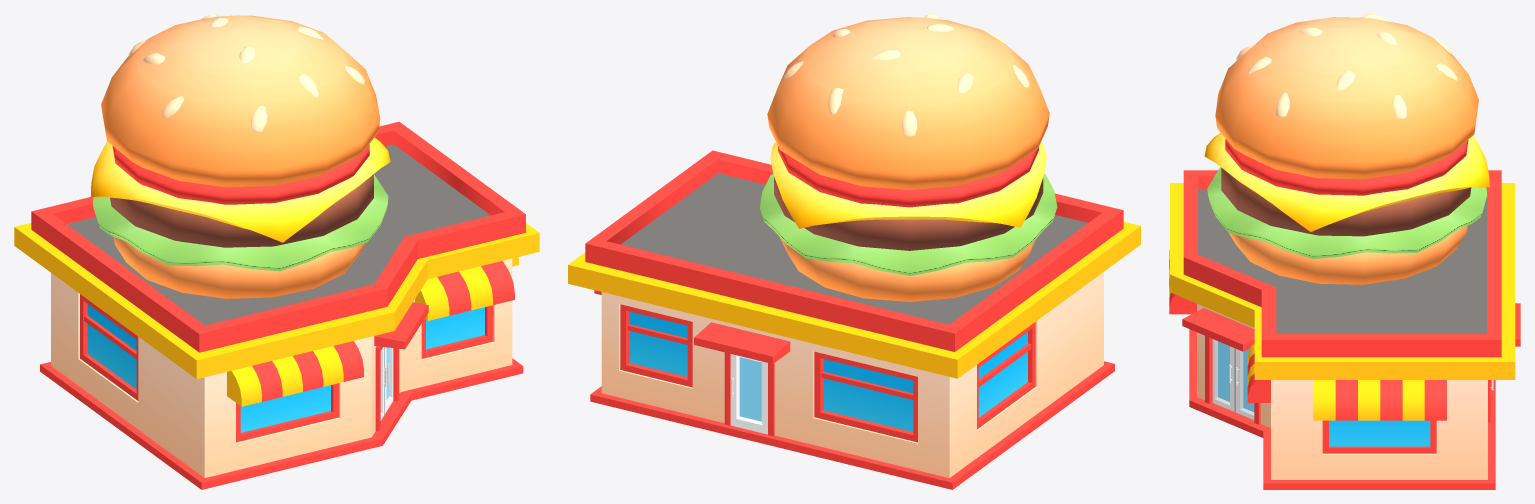
File: city2-building-snack-09.glb
3 renders of one model, left to right at view 1: azimuth 30°, elevation 25°; view 2: azimuth 150°, elevation 25°; view 3: azimuth 270°, elevation 25°, orthographic. The views are drawn at different scales.
Visible parts, largest first — view 1: Building_Snack_09; view 2: Building_Snack_09; view 3: Building_Snack_09.
Part boxes in pixels (x1,y1,x2,y2): Building_Snack_09: [14, 14, 539, 489]; Building_Snack_09: [568, 14, 1140, 489]; Building_Snack_09: [1169, 14, 1520, 489].
Bounding box in the file's own units: 11.52 × 10.14 × 9.31.
1 material, 1 textured.
